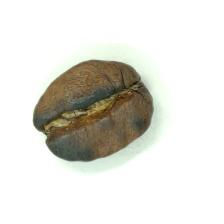NG: (33, 85, 118, 130), (47, 132, 96, 163)
